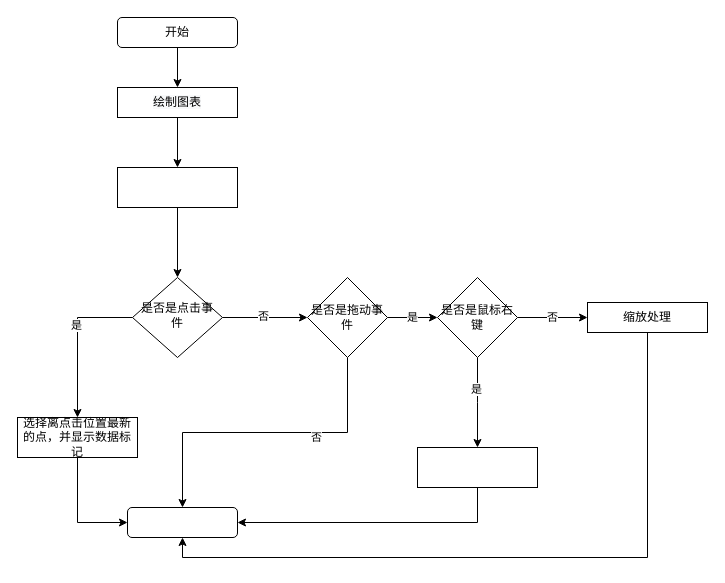
This 725x583 diagram has some shape labels left out. The shapes that lost their labels are listed below. From the top down, each one's centre as x and y in pixels, then its label:
point (177, 187): 监听图表的事件
point (477, 467): 根据移动位置平移
point (182, 522): 结束
